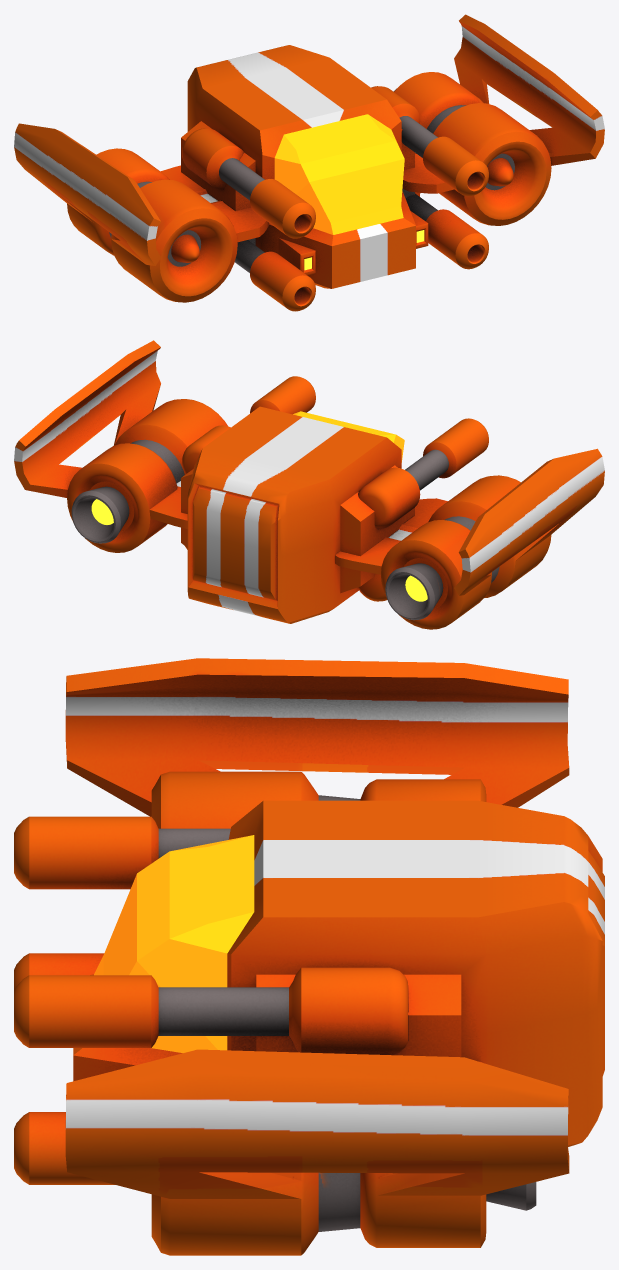
File: Spaceship.gltf
The picture shows the model from 3 angles, top to bottom: view 1: azimuth 30°, elevation 25°; view 2: azimuth 150°, elevation 25°; view 3: azimuth 270°, elevation 25°; orthographic projection. The views are drawn at different scales.
Parts seen in each view (by area): view 1: Cube.003; view 2: Cube.003; view 3: Cube.003.
Part boxes in pixels (x1,y1,x2,y2): Cube.003: (14,14,604,311); Cube.003: (14,340,604,629); Cube.003: (14,658,604,1255).
Bounding box in the file's own units: 3.3 × 0.9739 × 1.96.
6 materials, 3 textured.
